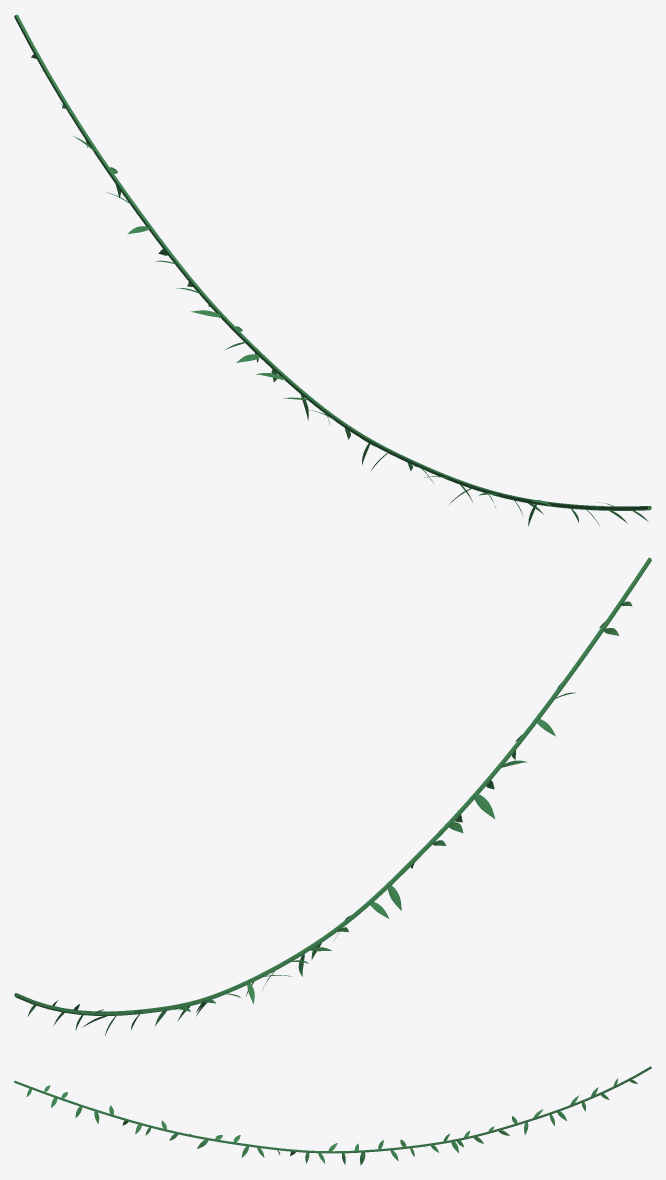
The model's file is vine_hori_A_scanden.fbx.
3 renders of one model, top to bottom at view 1: azimuth 30°, elevation 25°; view 2: azimuth 150°, elevation 25°; view 3: azimuth 270°, elevation 25°, orthographic. The views are drawn at different scales.
Parts seen in each view (by area): view 1: vine_hori_A_scanden_root; view 2: vine_hori_A_scanden_root; view 3: vine_hori_A_scanden_root.
Boxes of the visible parts, box(x1,y1,x2,y2) form: vine_hori_A_scanden_root: box(14, 14, 651, 510); vine_hori_A_scanden_root: box(14, 557, 651, 1015); vine_hori_A_scanden_root: box(14, 1066, 651, 1153).
Size of the model in its own units: 37.82 by 149 by 877.
